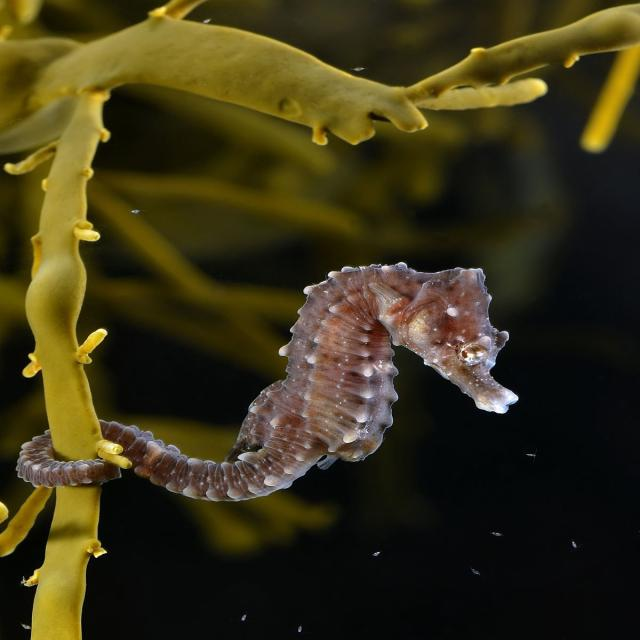seahorse: (102, 263, 517, 500)
